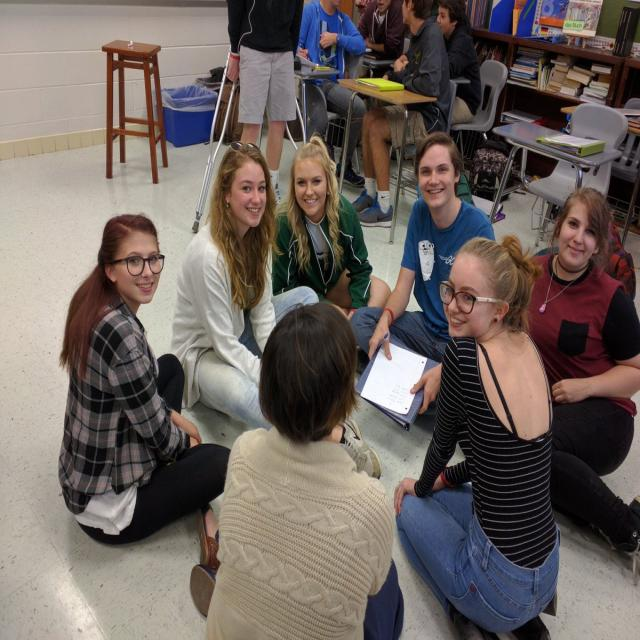body: (168, 141, 383, 483), (391, 235, 562, 639), (203, 301, 405, 640), (55, 211, 242, 547), (519, 186, 639, 570), (347, 130, 498, 424), (345, 0, 452, 229), (270, 132, 392, 326), (225, 0, 304, 208), (296, 0, 367, 189), (435, 0, 482, 126), (354, 0, 407, 101), (566, 1, 604, 39)
